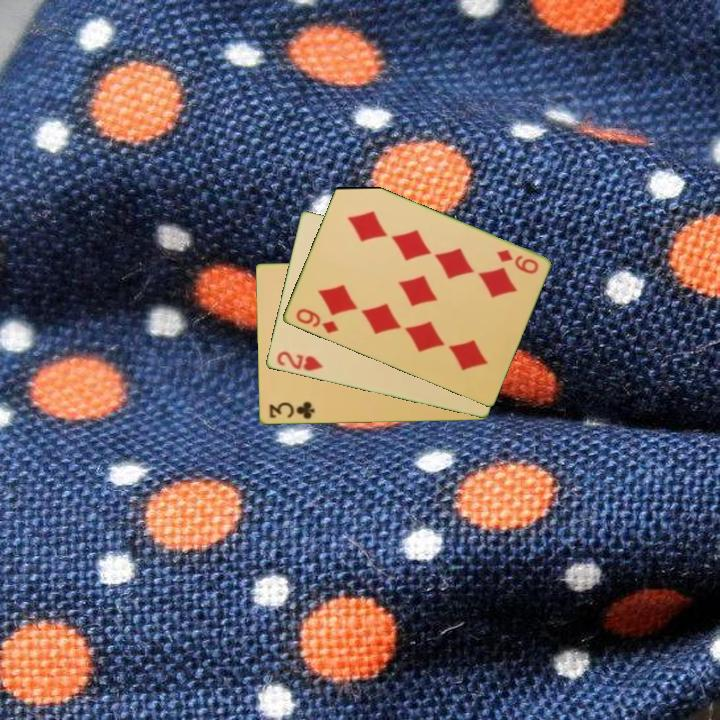2h: (273, 348, 325, 374)
3c: (266, 398, 317, 422)
9d: (292, 305, 341, 337), (493, 246, 541, 277)
